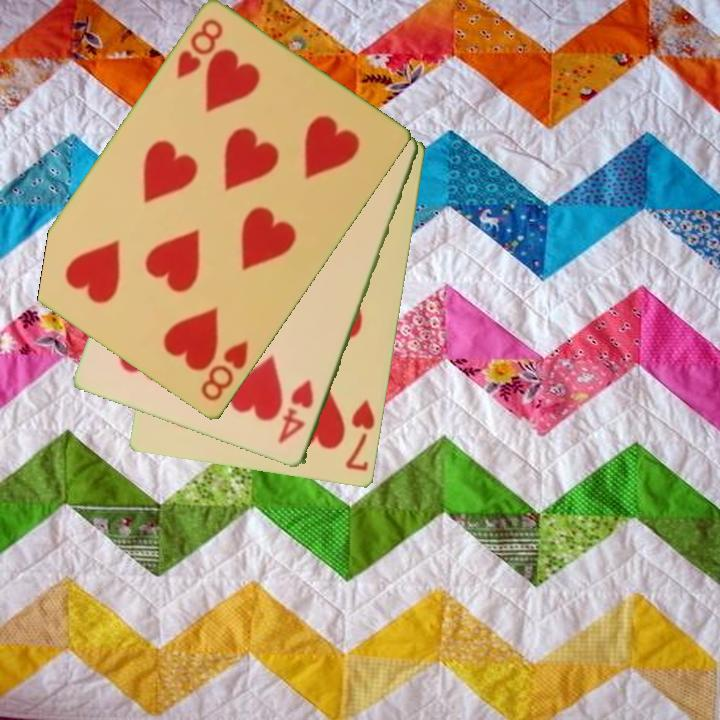4h: (274, 377, 317, 447)
7h: (342, 396, 378, 474)
8h: (197, 337, 252, 405), (172, 16, 227, 83)
